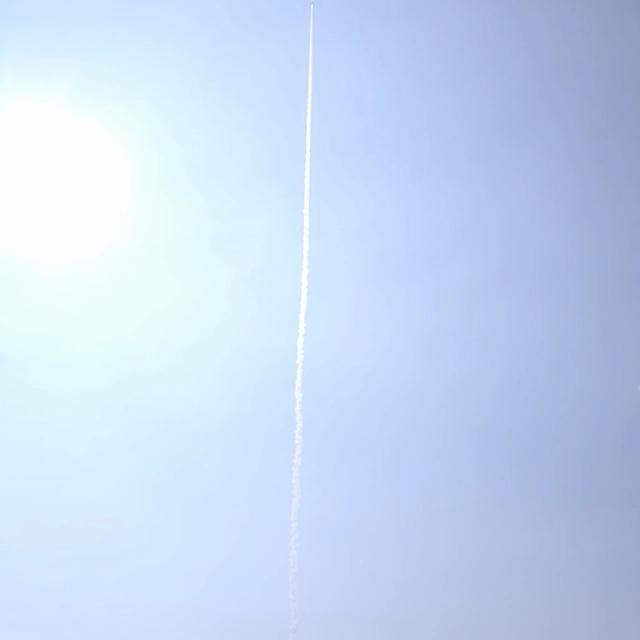smoke_trail_with_rocket: (286, 26, 312, 640)
